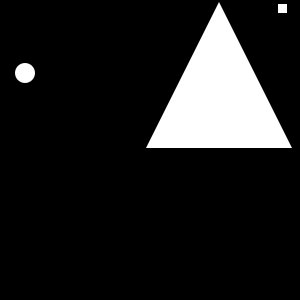circle: (278, 4, 287, 13)
rectangle: (15, 63, 35, 83)
triangle: (146, 2, 292, 148)
